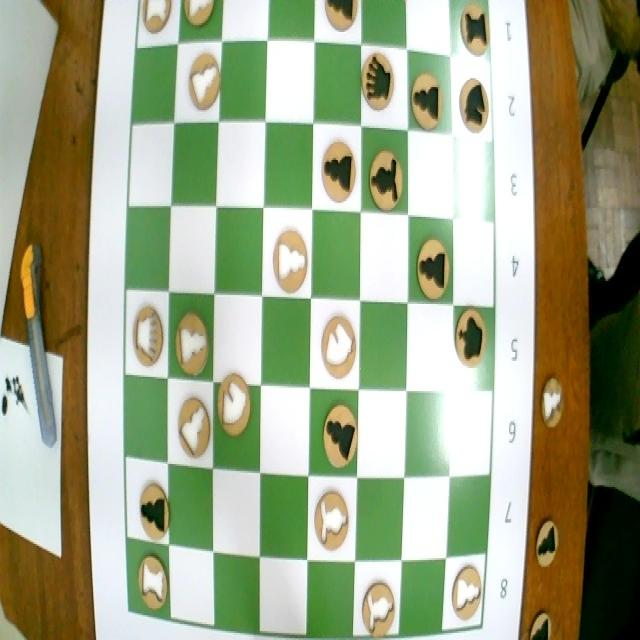chess-pieces: (314, 297, 359, 388), (316, 126, 357, 218), (317, 393, 360, 476), (355, 564, 400, 640), (358, 43, 402, 120), (265, 221, 310, 296), (365, 135, 408, 211), (310, 481, 354, 554), (179, 44, 220, 120), (216, 362, 253, 444), (443, 556, 483, 630), (413, 229, 454, 298), (409, 70, 450, 135), (172, 311, 209, 382), (132, 554, 174, 616), (458, 70, 495, 139), (131, 302, 166, 374), (137, 476, 173, 546), (173, 398, 212, 460), (453, 307, 488, 372), (321, 0, 358, 50), (457, 2, 490, 58), (134, 0, 175, 43), (180, 0, 219, 28)
